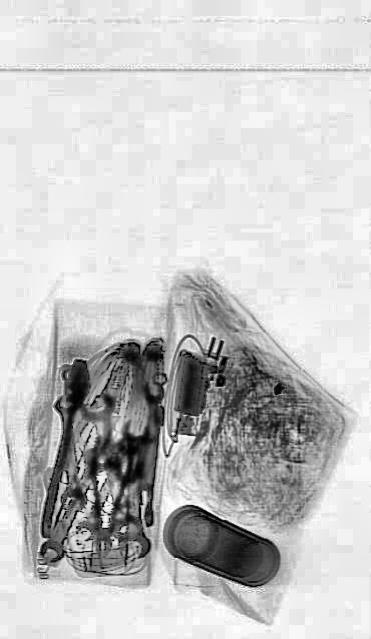Pliers: (45, 346, 142, 544)
Wrench: (80, 386, 134, 530), (38, 462, 99, 572), (49, 392, 85, 510), (119, 420, 149, 560), (73, 469, 118, 548)
